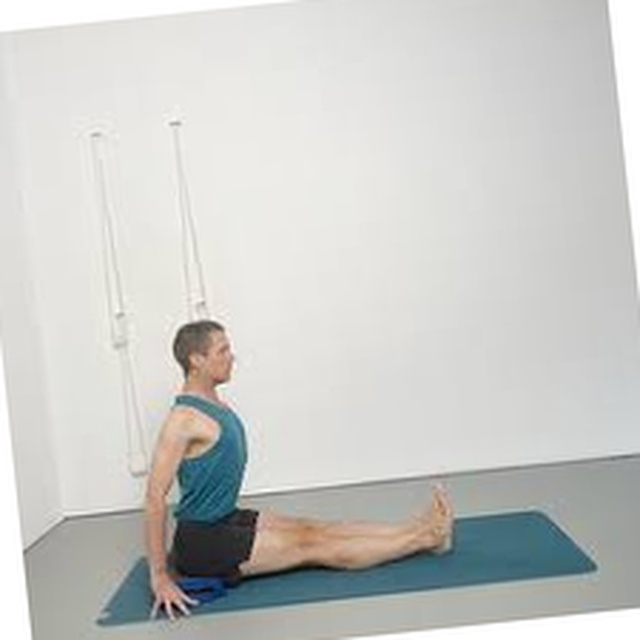Staff_Pose: (145, 319, 453, 623)
